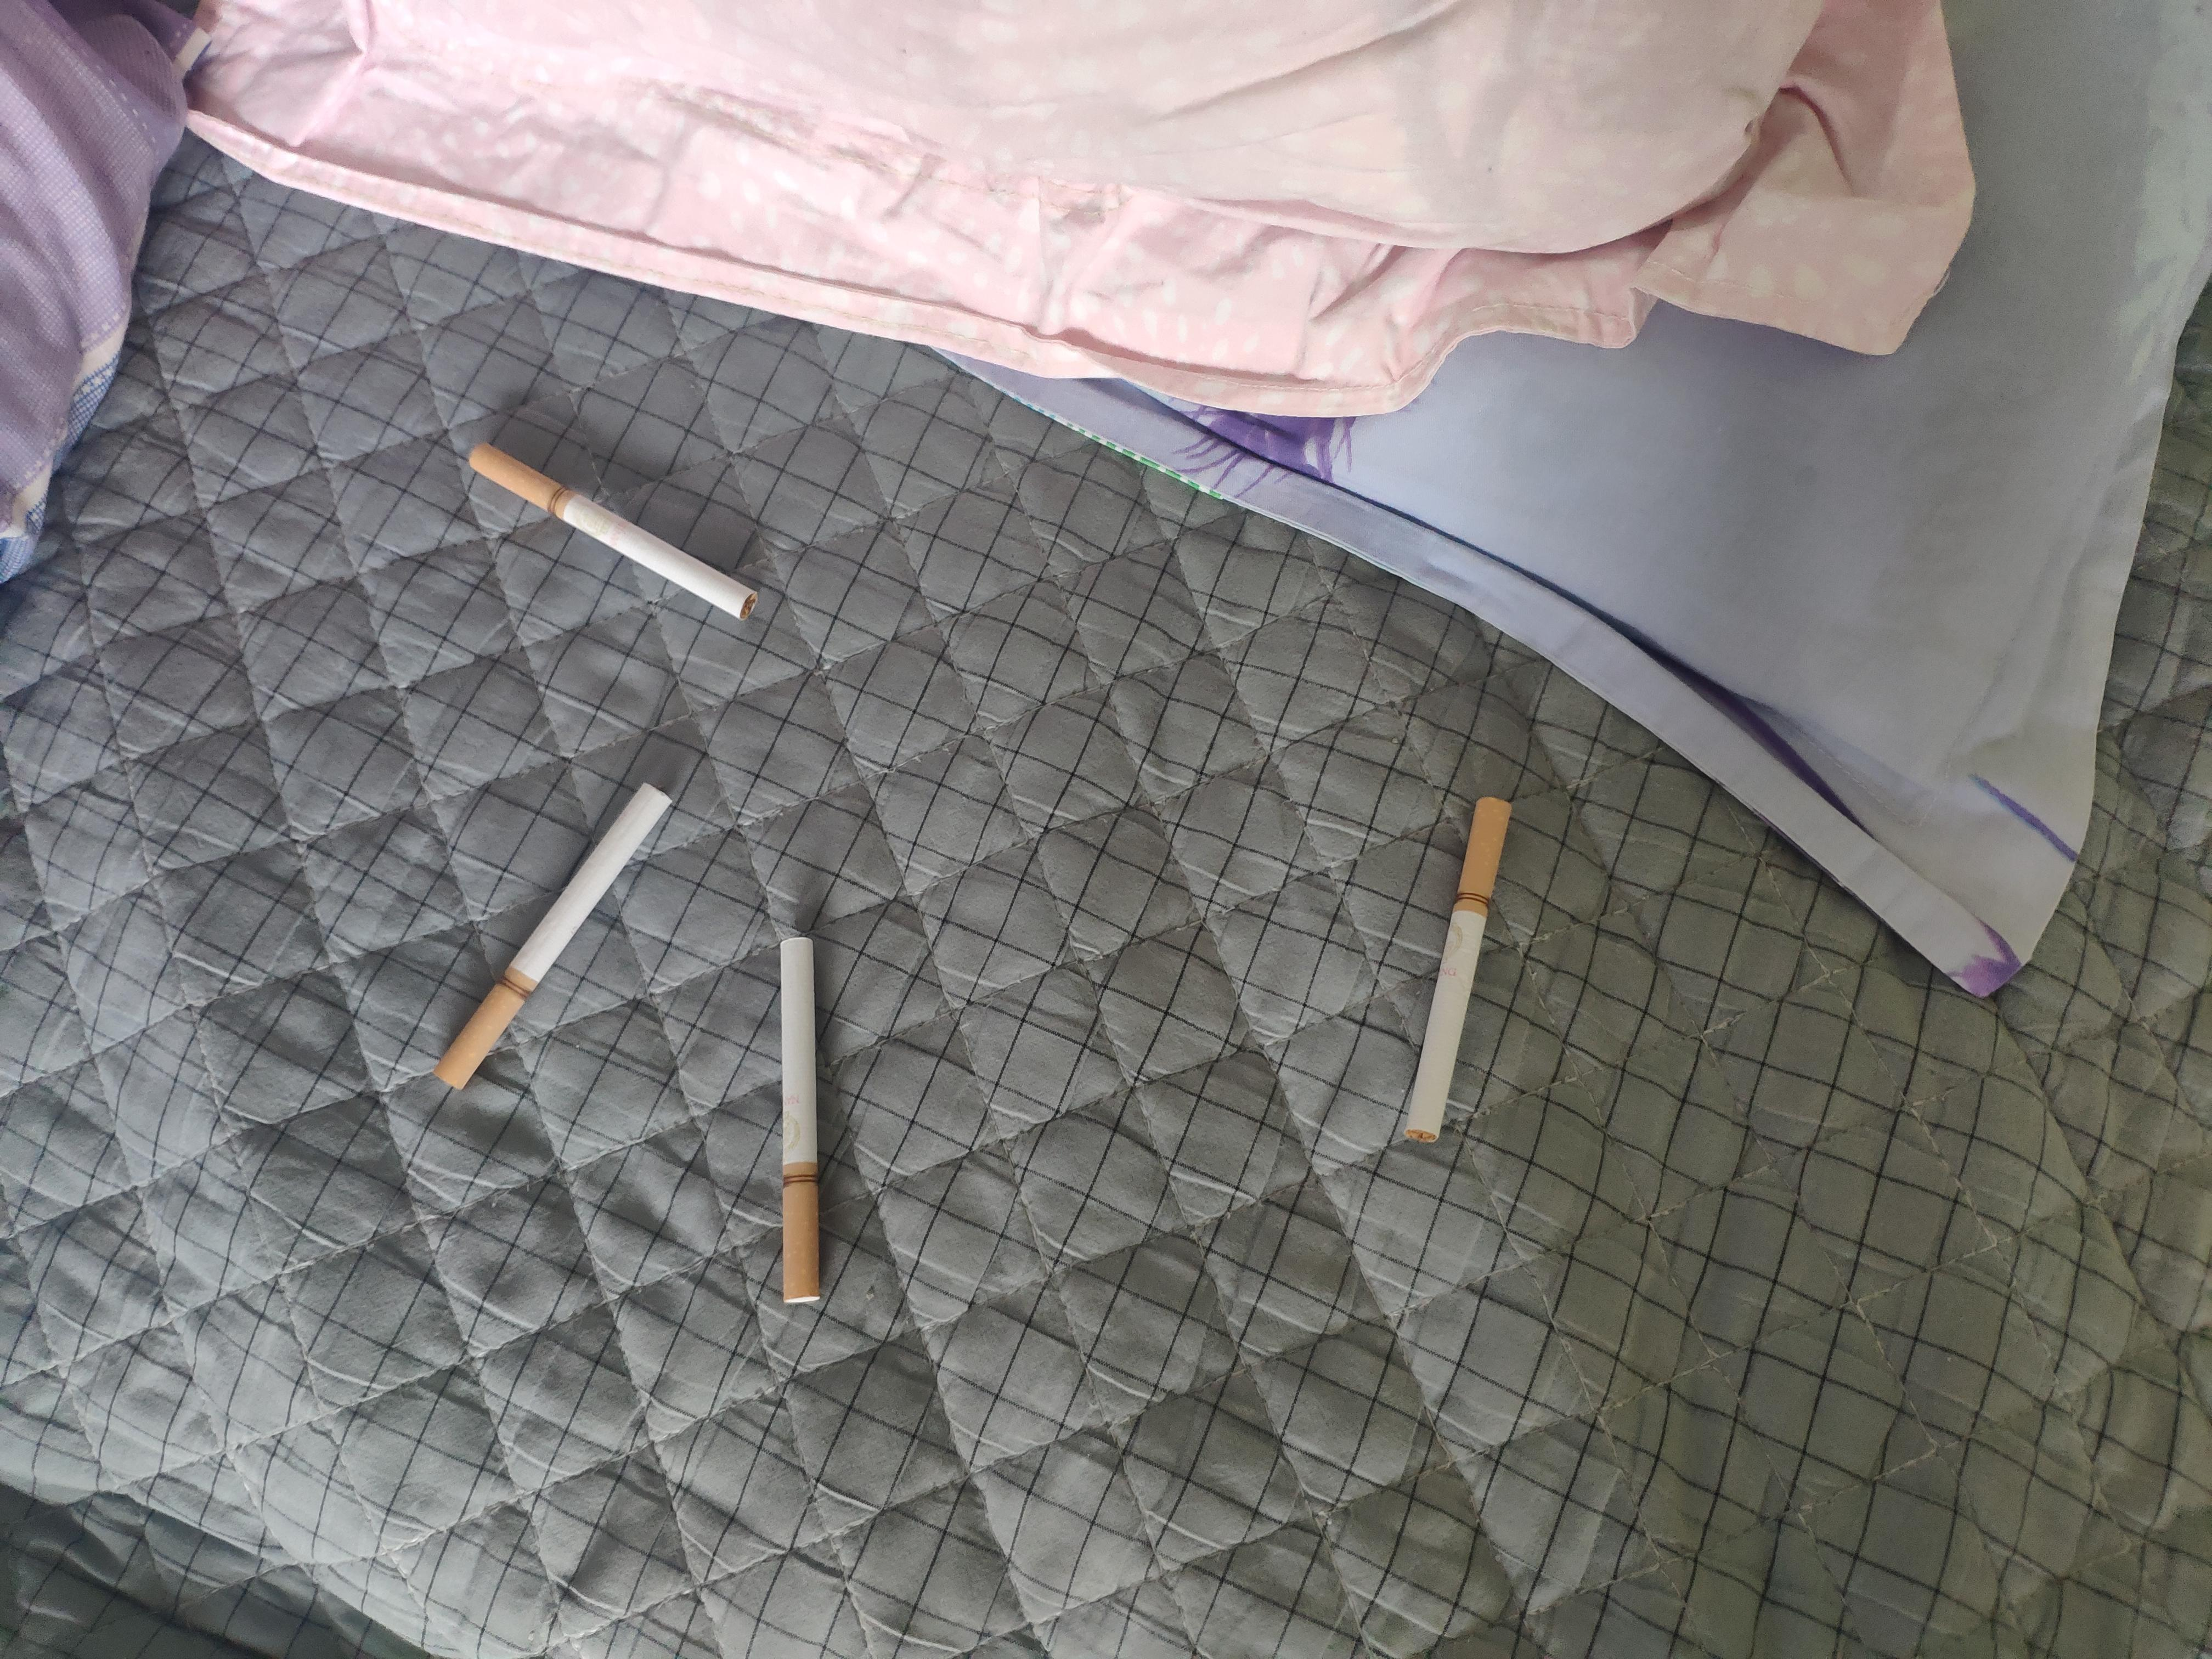smoke: (430, 782, 672, 1091), (470, 441, 761, 620), (1404, 796, 1512, 1143), (779, 938, 824, 1309)
